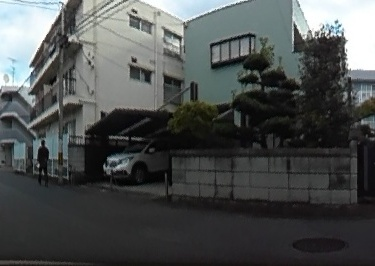person: (35, 138, 51, 187)
